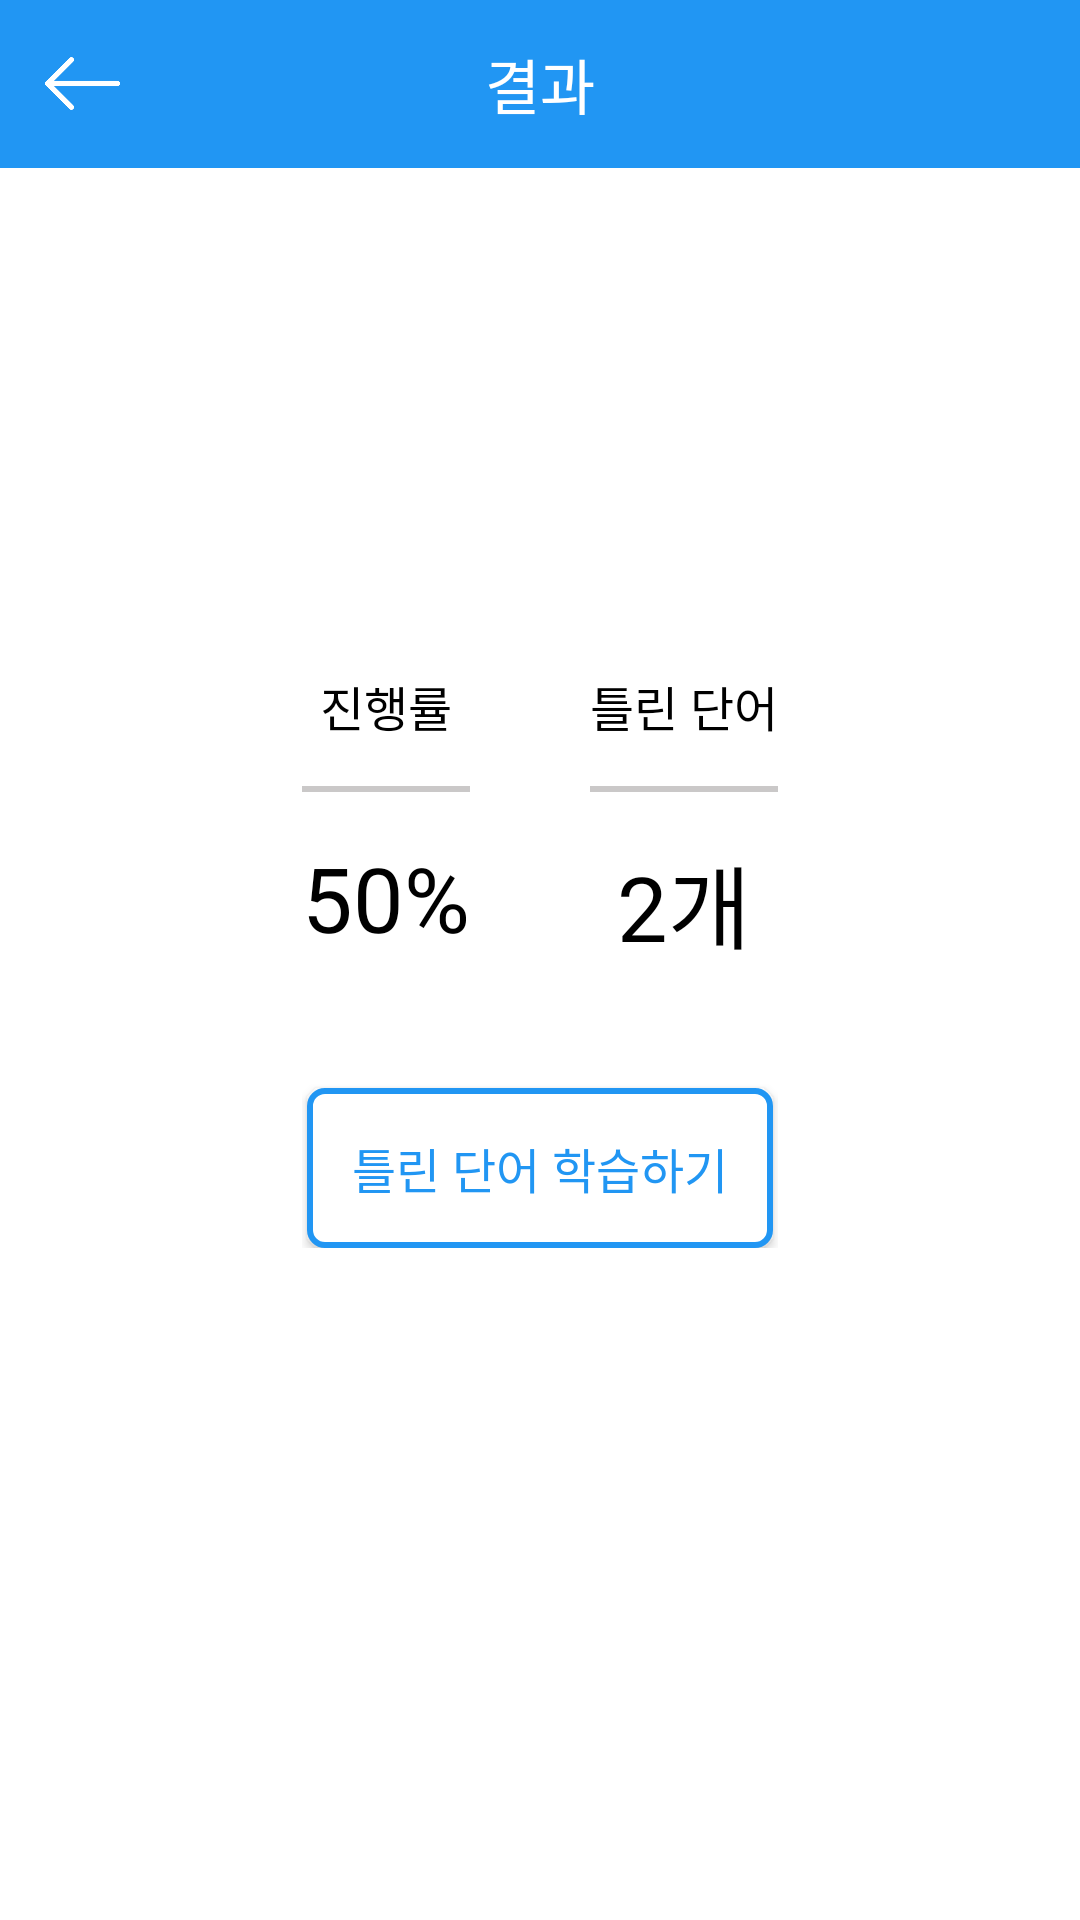

Icon bounding boxes for this 1080 × 1920 phone screenshot, format [x1,y1,x2,y2]:
arrow: [45,57,120,110]
